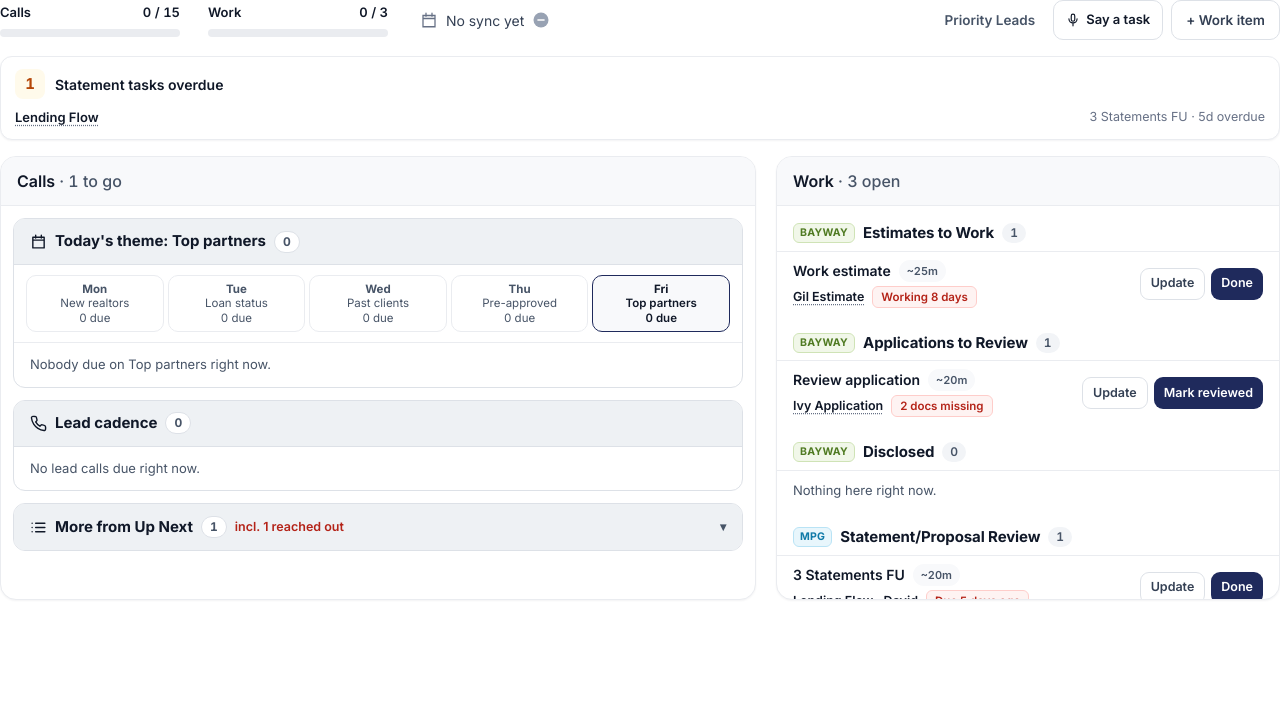
Test: Workbench › suggests Estimate sent first for a DSCR lead, and shows rough times
Check: the element showing "Work estimate ~25m Gil Estimate Working 8 days Update Done" is shown, box [777,252,1279,316]
Check: the element that starts with "Review application" shows "~20m", box [777,361,1279,425]
Click the button "Done" in the row of "Working 8 days" at (1237, 284), box [1211,268,1263,300]
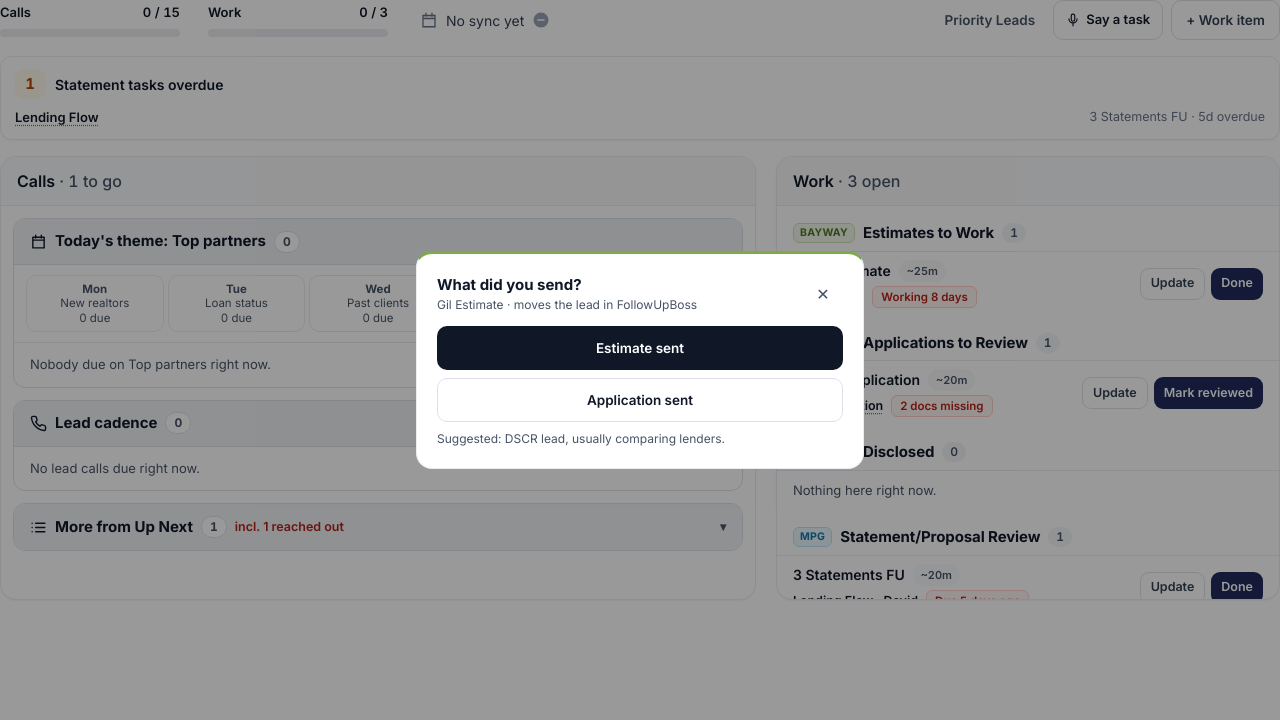
Check: the dialog shows "Suggested: DSCR lead", box [437,431,725,446]
